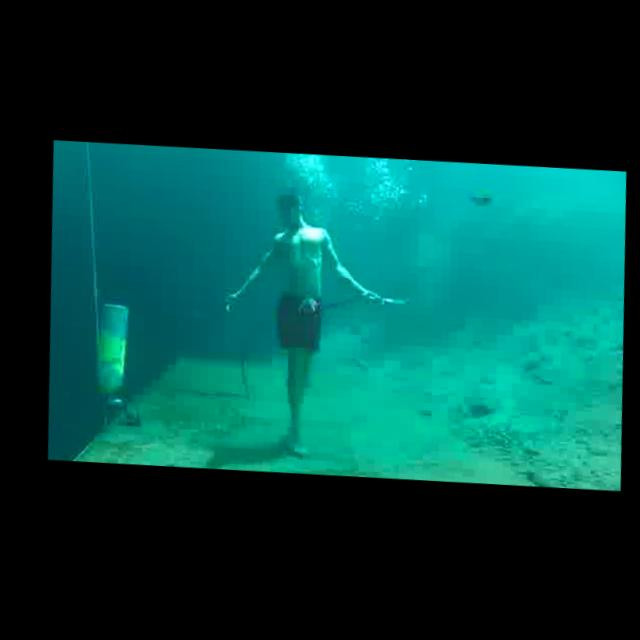human: (203, 179, 394, 472)
